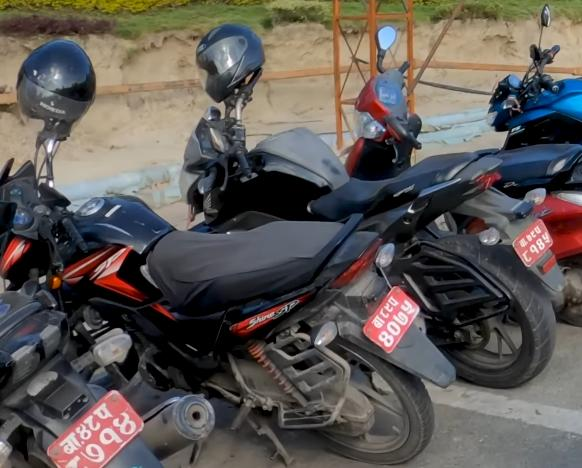bike: (0, 90, 457, 468), (177, 65, 565, 387)
